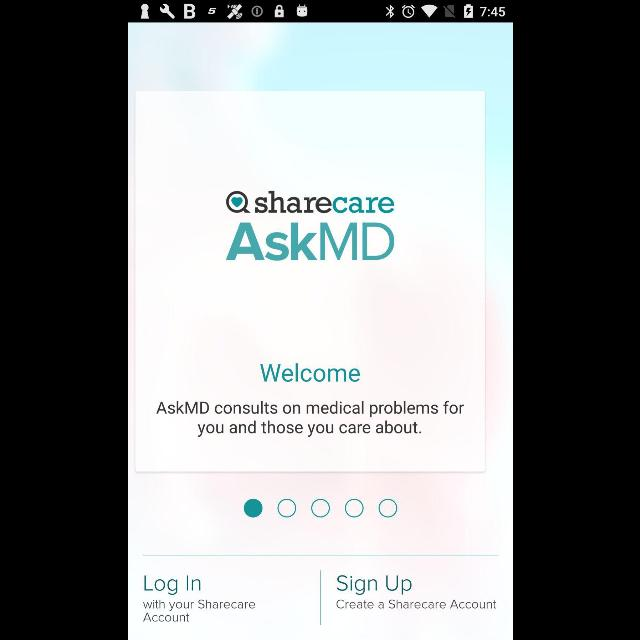image: (224, 190, 394, 260)
pageindicator: (242, 498, 398, 518)
text: (155, 400, 463, 438), (142, 600, 255, 622), (259, 363, 359, 383), (336, 574, 412, 596), (336, 599, 496, 609), (144, 575, 200, 595)
uppertaskbar: (128, 1, 512, 23)
